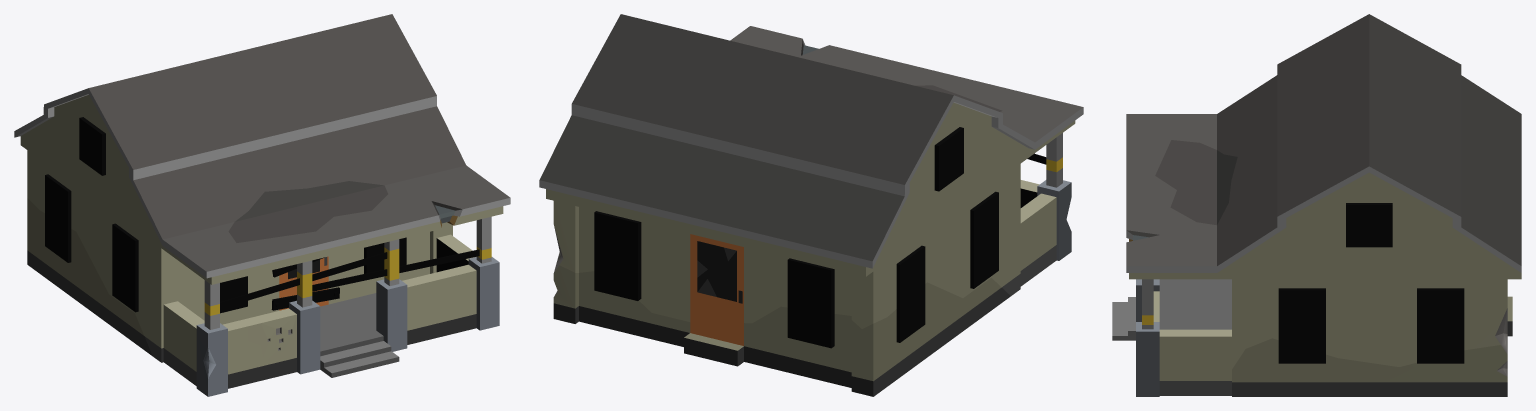
The model's file is SA_Bld_HouseSmallA_Damaged_04.gltf.
3 renders of one model, left to right at view 1: azimuth 30°, elevation 25°; view 2: azimuth 150°, elevation 25°; view 3: azimuth 270°, elevation 25°, orthographic. The views are drawn at different scales.
Visible parts, largest first — view 1: SA_Bld_HouseSmallA_Damaged_04; view 2: SA_Bld_HouseSmallA_Damaged_04; view 3: SA_Bld_HouseSmallA_Damaged_04.
Part boxes in pixels (x1,y1,x2,y2): SA_Bld_HouseSmallA_Damaged_04: [14, 14, 510, 396]; SA_Bld_HouseSmallA_Damaged_04: [539, 14, 1083, 396]; SA_Bld_HouseSmallA_Damaged_04: [1112, 14, 1521, 396].
Bounding box in the file's own units: 14.19 × 10.14 × 16.1.
1 material, 1 textured.
